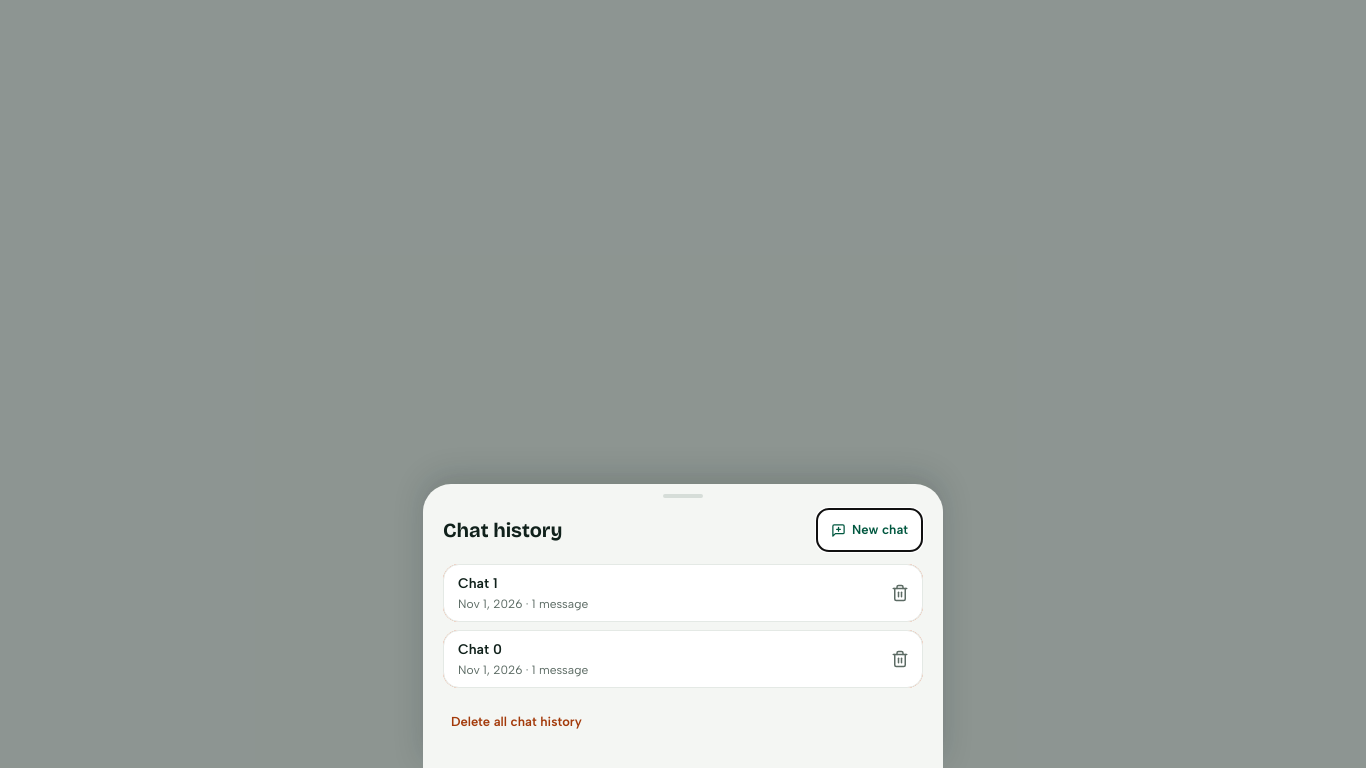
ChatHistorySheet › swipe deletes too
Press the mouse on the element with test id "chat-row" showing "Chat 1 Nov 1, 2026 · 1 message" at {"x": 683, "y": 593}, box [443,564,923,622]
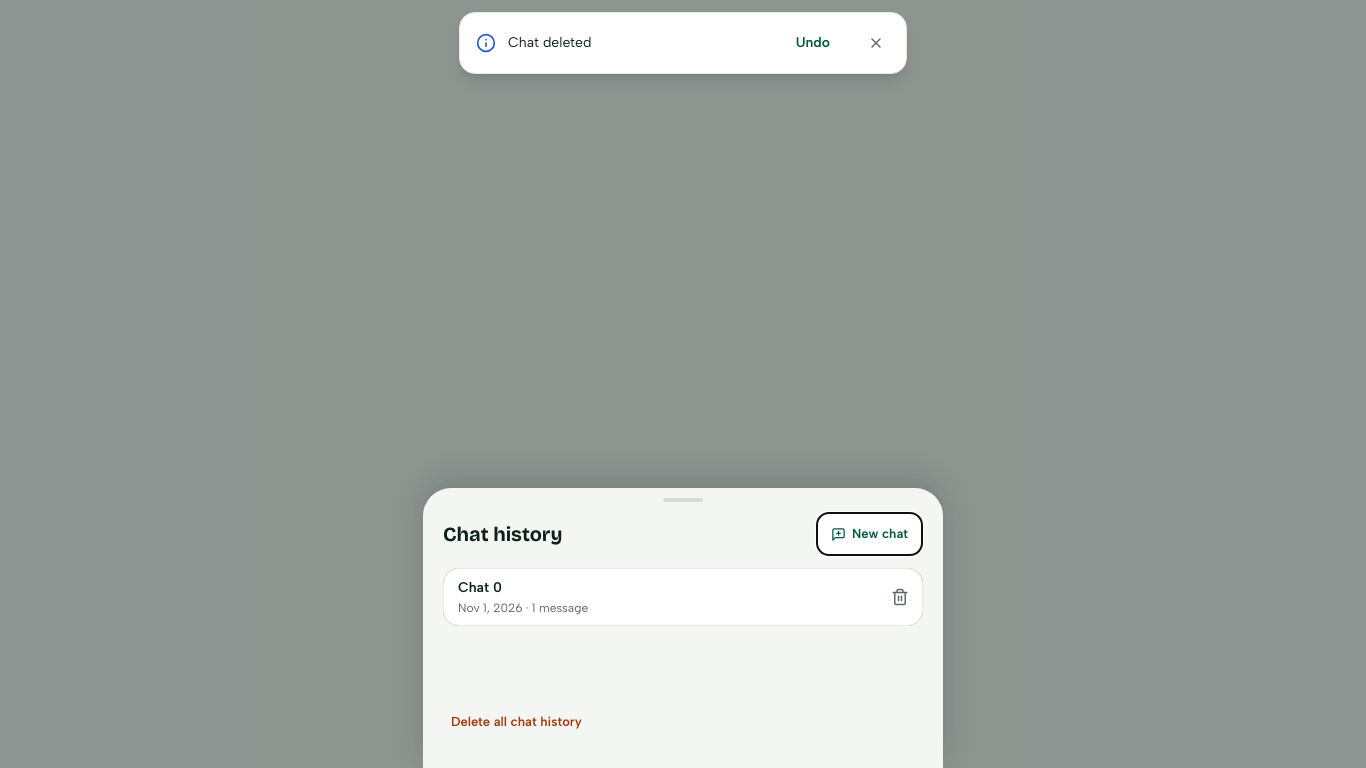
expect the number of buttons with test id "chat-history-item" is 1: met, box [444,569,874,625]
